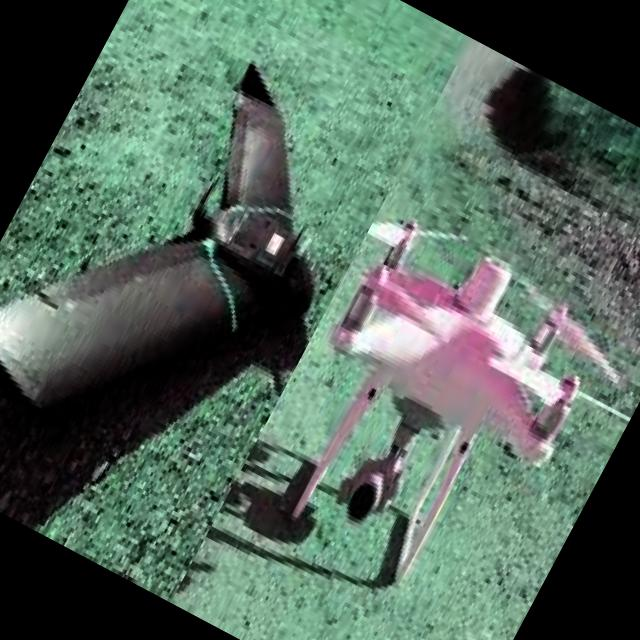drone: (212, 175, 640, 640)
